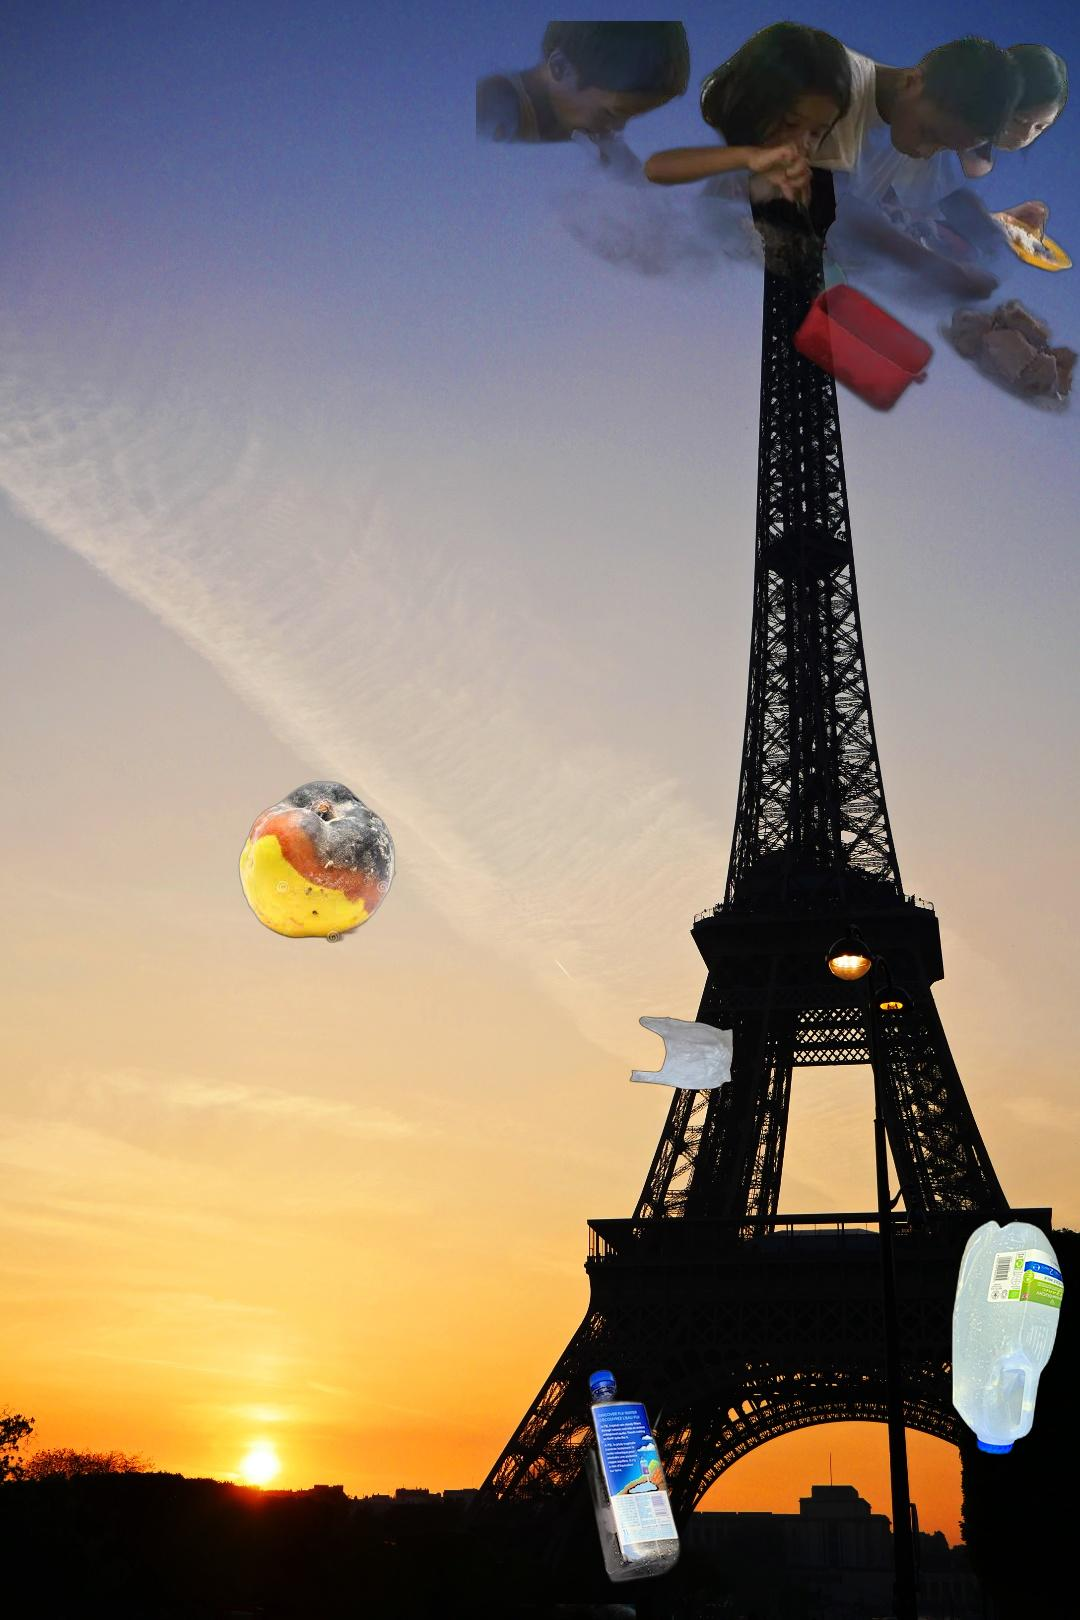biological: (476, 20, 1080, 480), (236, 779, 399, 945), (377, 1604, 636, 1620)
plastic-bag: (627, 1014, 736, 1093)
plastic-bottles: (947, 1214, 1068, 1461), (573, 1364, 686, 1589)
